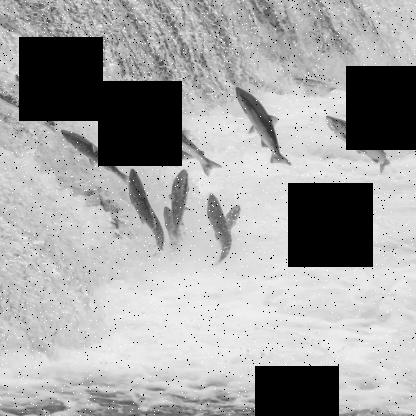fish: (118, 99, 194, 165), (236, 87, 292, 166), (326, 114, 391, 173), (62, 129, 132, 181), (157, 123, 222, 175), (127, 169, 165, 252), (299, 214, 350, 260), (15, 74, 57, 126), (204, 192, 233, 266), (168, 167, 192, 238), (162, 204, 186, 256), (215, 206, 239, 250)
